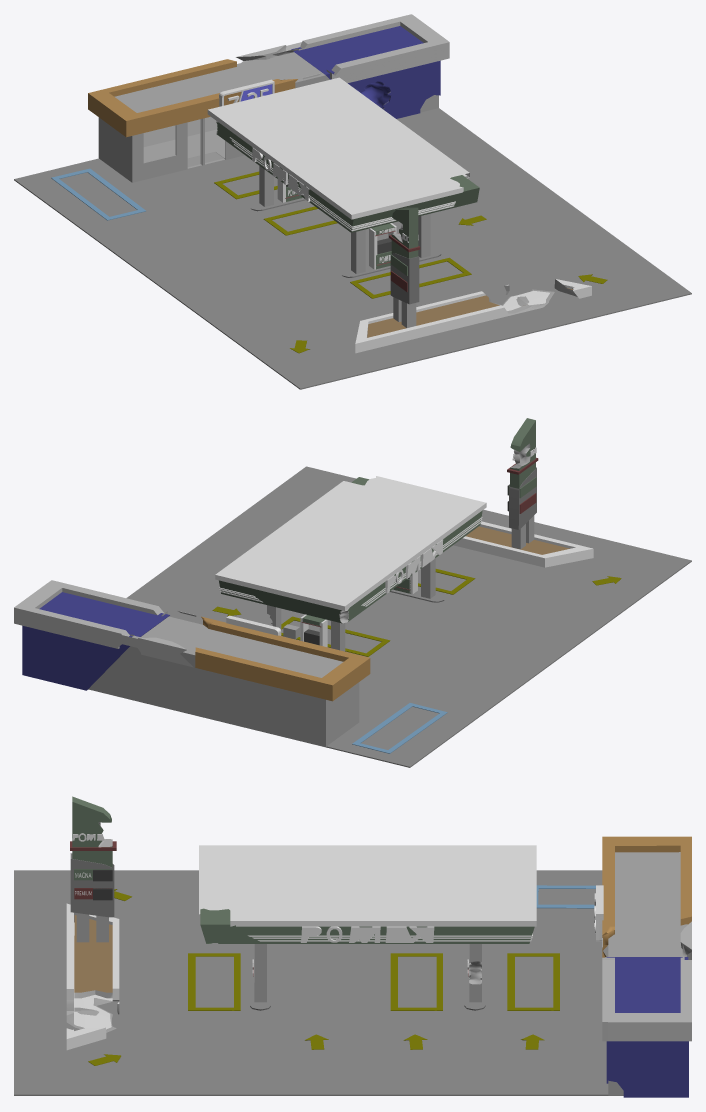
File: gaso chafa.fbx
3 views of the same model, one above another, from view 1: azimuth 30°, elevation 25°; view 2: azimuth 150°, elevation 25°; view 3: azimuth 270°, elevation 25° (orthographic). The views are drawn at different scales.
Visible parts, largest first — view 1: polySurface136; view 2: polySurface136; view 3: polySurface136.
Part boxes in pixels (x1=…): polySurface136: x1=14, y1=14, x2=691, y2=389; polySurface136: x1=14, y1=418, x2=691, y2=767; polySurface136: x1=14, y1=796, x2=691, y2=1097.
Bounding box in the file's own units: 9.47 × 3.02 × 11.83.
